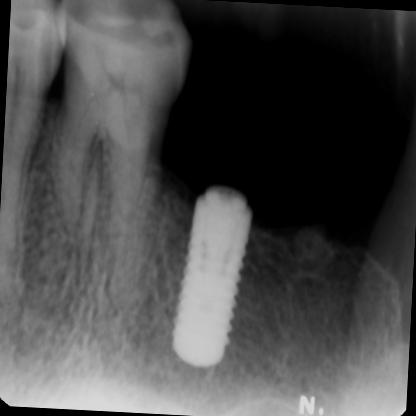ITI: (159, 183, 261, 385)
